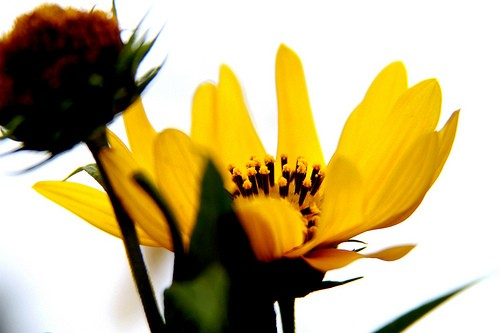flower: (24, 40, 470, 285)
